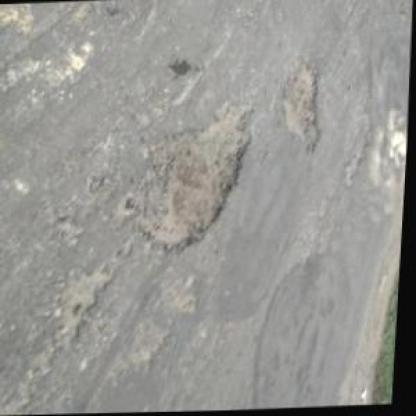pothole: (125, 100, 259, 251), (280, 58, 327, 153)
